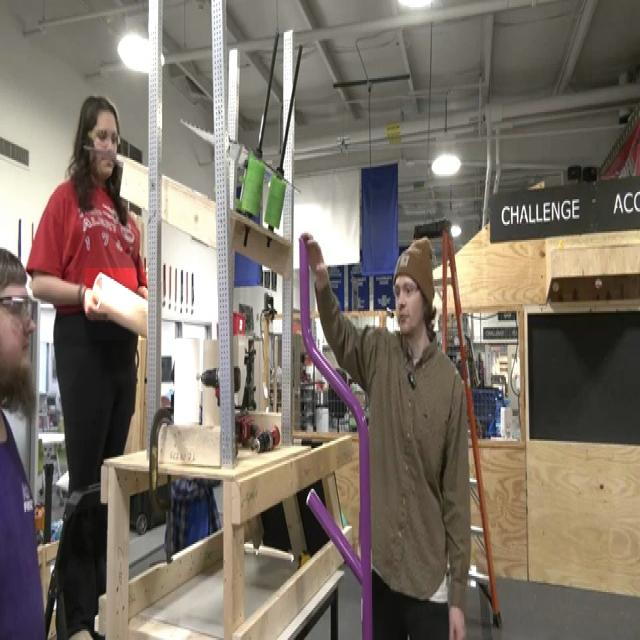Coral: (85, 268, 148, 340), (174, 339, 201, 424)
